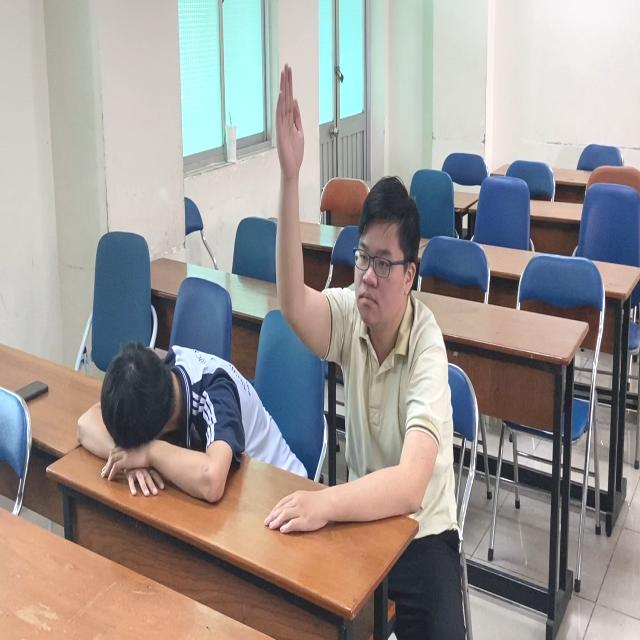raise_hand: (266, 58, 465, 567)
sleep: (61, 337, 260, 505)
